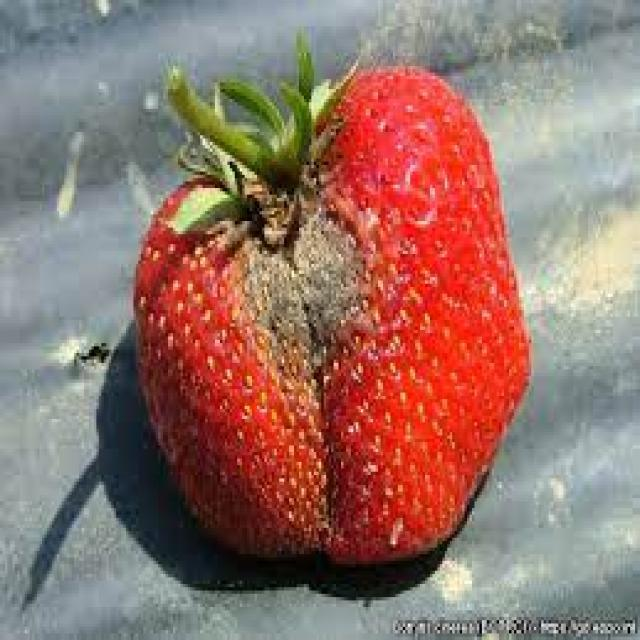Moho gris: (129, 71, 519, 563)
